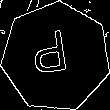P_S: (34, 29, 78, 85)
